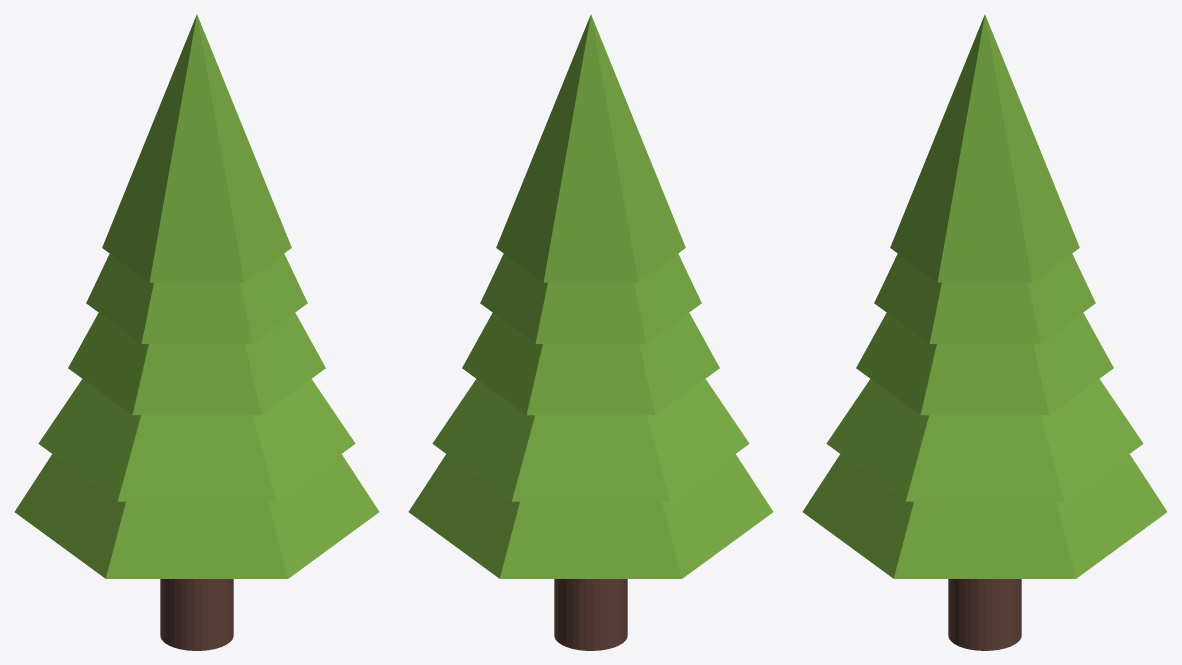
The model's file is tree3v2.fbx.
3 renders of one model, left to right at view 1: azimuth 30°, elevation 25°; view 2: azimuth 150°, elevation 25°; view 3: azimuth 270°, elevation 25°, orthographic.
Visible parts, largest first — view 1: Cylinder; view 2: Cylinder; view 3: Cylinder.
Boxes of the visible parts, bbox=[...] form: Cylinder: bbox=[14, 14, 379, 650]; Cylinder: bbox=[408, 14, 773, 650]; Cylinder: bbox=[802, 14, 1167, 650].
Bounding box in the file's own units: 3.74 × 8.11 × 4.32.
